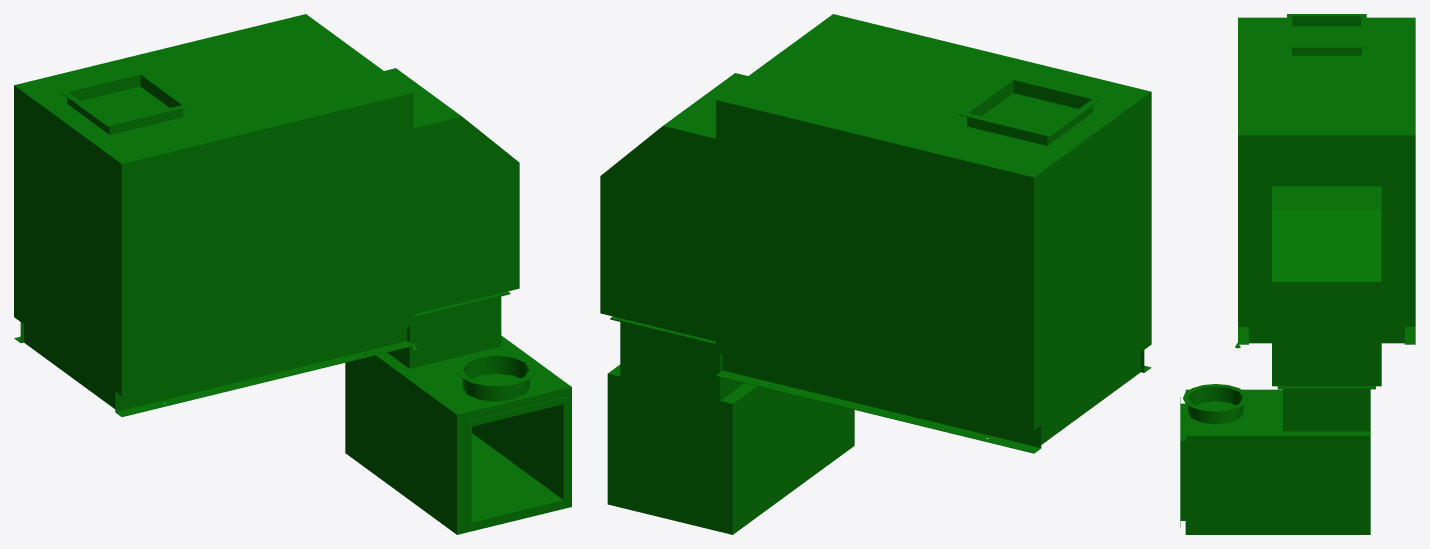
The model's file is Image-1710907701452-2280781832368_77-GA54.fbx.
3 views of the same model, side by side, from view 1: azimuth 30°, elevation 25°; view 2: azimuth 150°, elevation 25°; view 3: azimuth 270°, elevation 25° (orthographic). The views are drawn at different scales.
Parts seen in each view (by area): view 1: BOX 1 of SUBEQUIPMENT /77-GA54/UNIT, BOX 6 of SUBEQUIPMENT /77-GA54/SOUND-TRAP, BOX 1 of SUBEQUIPMENT /77-GA54/SOUND-TRAP, BOX 1 of SUBEQUIPMENT /77-GA54/FUND, BOX 2 of SUBEQUIPMENT /77-GA54/SOUND-TRAP, BOX 8 of SUBEQUIPMENT /77-GA54/SOUND-TRAP, BOX 3 of SUBEQUIPMENT /77-GA54/UNIT, CYLINDER 1 of SUBEQUIPMENT /77-GA54/SOUND-TRAP, BOX 4 of SUBEQUIPMENT /77-GA54/FUND, BOX 4 of SUBEQUIPMENT /77-GA54/UNIT, CYLINDER 2 of SUBEQUIPMENT /77-GA54/SOUND-TRAP, BOX 7 of SUBEQUIPMENT /77-GA54/SOUND-TRAP; view 2: BOX 1 of SUBEQUIPMENT /77-GA54/UNIT, BOX 6 of SUBEQUIPMENT /77-GA54/SOUND-TRAP, BOX 1 of SUBEQUIPMENT /77-GA54/SOUND-TRAP, BOX 3 of SUBEQUIPMENT /77-GA54/FUND, BOX 2 of SUBEQUIPMENT /77-GA54/SOUND-TRAP, BOX 3 of SUBEQUIPMENT /77-GA54/UNIT, BOX 4 of SUBEQUIPMENT /77-GA54/FUND, BOX 4 of SUBEQUIPMENT /77-GA54/UNIT; view 3: BOX 1 of SUBEQUIPMENT /77-GA54/UNIT, BOX 1 of SUBEQUIPMENT /77-GA54/SOUND-TRAP, BOX 6 of SUBEQUIPMENT /77-GA54/SOUND-TRAP, BOX 2 of SUBEQUIPMENT /77-GA54/SOUND-TRAP, CYLINDER 1 of SUBEQUIPMENT /77-GA54/SOUND-TRAP, BOX 3 of SUBEQUIPMENT /77-GA54/UNIT, BOX 2 of SUBEQUIPMENT /77-GA54/FUND, BOX 4 of SUBEQUIPMENT /77-GA54/UNIT, BOX 7 of SUBEQUIPMENT /77-GA54/SOUND-TRAP, CYLINDER 2 of SUBEQUIPMENT /77-GA54/SOUND-TRAP, BOX 5 of SUBEQUIPMENT /77-GA54/SOUND-TRAP.
Part boxes in pixels (x1,y1,x2,y2): BOX 1 of SUBEQUIPMENT /77-GA54/UNIT: [14, 14, 413, 395]; BOX 6 of SUBEQUIPMENT /77-GA54/SOUND-TRAP: [345, 335, 571, 534]; BOX 1 of SUBEQUIPMENT /77-GA54/SOUND-TRAP: [384, 68, 519, 314]; BOX 1 of SUBEQUIPMENT /77-GA54/FUND: [115, 324, 413, 416]; BOX 2 of SUBEQUIPMENT /77-GA54/SOUND-TRAP: [387, 296, 501, 368]; BOX 8 of SUBEQUIPMENT /77-GA54/SOUND-TRAP: [466, 396, 569, 529]; BOX 3 of SUBEQUIPMENT /77-GA54/UNIT: [67, 74, 183, 134]; CYLINDER 1 of SUBEQUIPMENT /77-GA54/SOUND-TRAP: [462, 356, 529, 401]; BOX 4 of SUBEQUIPMENT /77-GA54/FUND: [24, 324, 115, 408]; BOX 4 of SUBEQUIPMENT /77-GA54/UNIT: [59, 70, 191, 126]; CYLINDER 2 of SUBEQUIPMENT /77-GA54/SOUND-TRAP: [457, 353, 535, 386]; BOX 7 of SUBEQUIPMENT /77-GA54/SOUND-TRAP: [472, 404, 563, 521]; BOX 1 of SUBEQUIPMENT /77-GA54/UNIT: [716, 14, 1151, 429]; BOX 6 of SUBEQUIPMENT /77-GA54/SOUND-TRAP: [607, 364, 854, 534]; BOX 1 of SUBEQUIPMENT /77-GA54/SOUND-TRAP: [600, 73, 747, 341]; BOX 3 of SUBEQUIPMENT /77-GA54/FUND: [715, 352, 1041, 453]; BOX 2 of SUBEQUIPMENT /77-GA54/SOUND-TRAP: [620, 322, 744, 400]; BOX 3 of SUBEQUIPMENT /77-GA54/UNIT: [967, 79, 1093, 145]; BOX 4 of SUBEQUIPMENT /77-GA54/FUND: [1041, 352, 1140, 444]; BOX 4 of SUBEQUIPMENT /77-GA54/UNIT: [958, 76, 1102, 137]; BOX 1 of SUBEQUIPMENT /77-GA54/UNIT: [1238, 17, 1415, 326]; BOX 1 of SUBEQUIPMENT /77-GA54/SOUND-TRAP: [1272, 186, 1381, 386]; BOX 6 of SUBEQUIPMENT /77-GA54/SOUND-TRAP: [1185, 389, 1370, 534]; BOX 2 of SUBEQUIPMENT /77-GA54/SOUND-TRAP: [1283, 389, 1370, 431]; CYLINDER 1 of SUBEQUIPMENT /77-GA54/SOUND-TRAP: [1188, 386, 1243, 424]; BOX 3 of SUBEQUIPMENT /77-GA54/UNIT: [1292, 16, 1361, 55]; BOX 2 of SUBEQUIPMENT /77-GA54/FUND: [1249, 326, 1404, 343]; BOX 4 of SUBEQUIPMENT /77-GA54/UNIT: [1287, 14, 1366, 48]; BOX 7 of SUBEQUIPMENT /77-GA54/SOUND-TRAP: [1180, 403, 1185, 520]; CYLINDER 2 of SUBEQUIPMENT /77-GA54/SOUND-TRAP: [1183, 384, 1248, 412]; BOX 5 of SUBEQUIPMENT /77-GA54/SOUND-TRAP: [1277, 386, 1375, 388].
Bounding box in the file's own units: 3.65 × 2.15 × 3.62.
